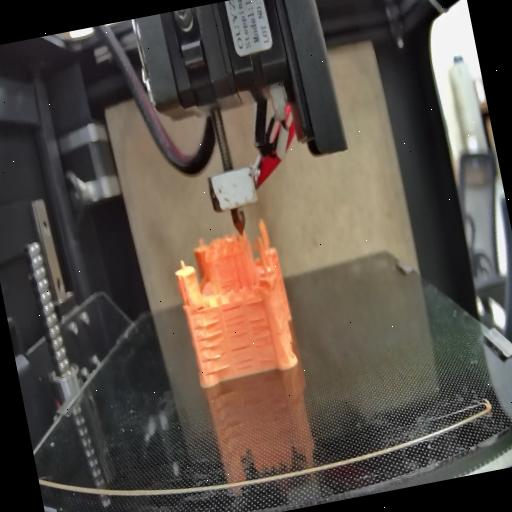cracks: (191, 319, 231, 375), (249, 314, 277, 364), (220, 302, 248, 342), (229, 342, 254, 371), (244, 297, 266, 310), (192, 299, 208, 315), (220, 276, 237, 290)
